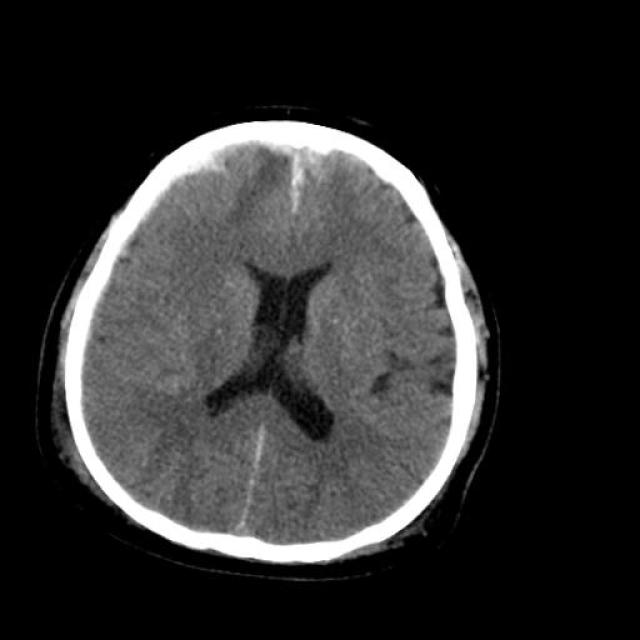Subdural: (183, 120, 383, 205)
